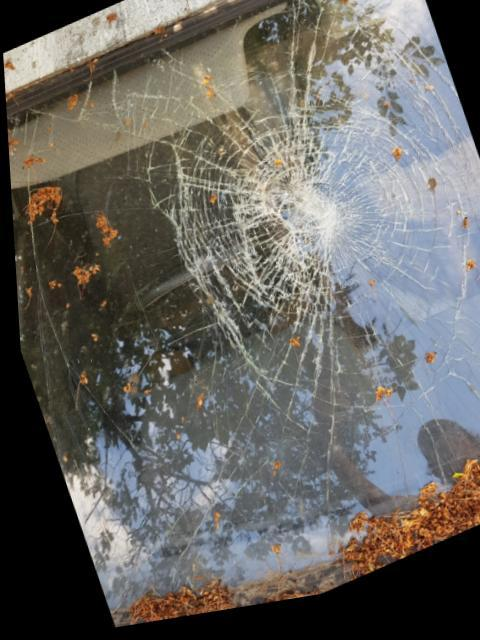glass shatter: (6, 0, 480, 613)
